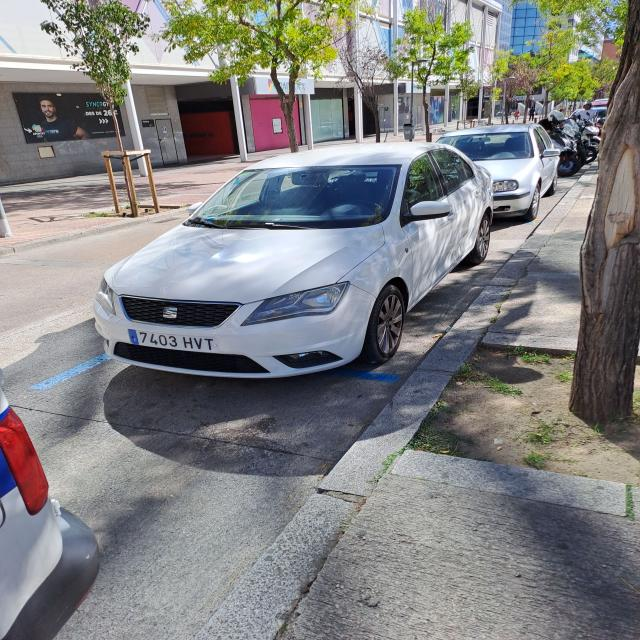license_plate-34Td: (129, 330, 217, 351)
